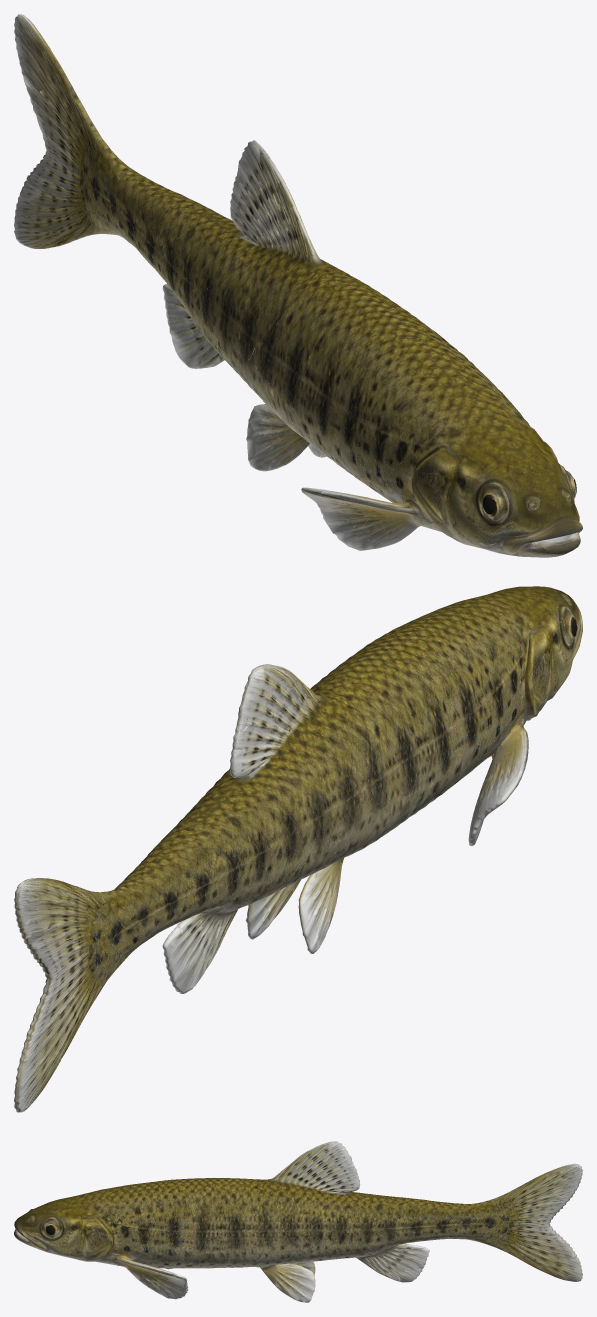
File: strzebla.glb
3 views of the same model, one above another, from view 1: azimuth 30°, elevation 25°; view 2: azimuth 150°, elevation 25°; view 3: azimuth 270°, elevation 25° (orthographic). The views are drawn at different scales.
Parts seen in each view (by area): view 1: Mesh_0; view 2: Mesh_0; view 3: Mesh_0.
Boxes of the visible parts, x1,y1,x2,y2 form: Mesh_0: (14, 14, 582, 557); Mesh_0: (14, 586, 582, 1112); Mesh_0: (14, 1141, 582, 1302).
Bounding box in the file's own units: 0.4083 × 0.5671 × 1.9.
1 material, 1 textured.
